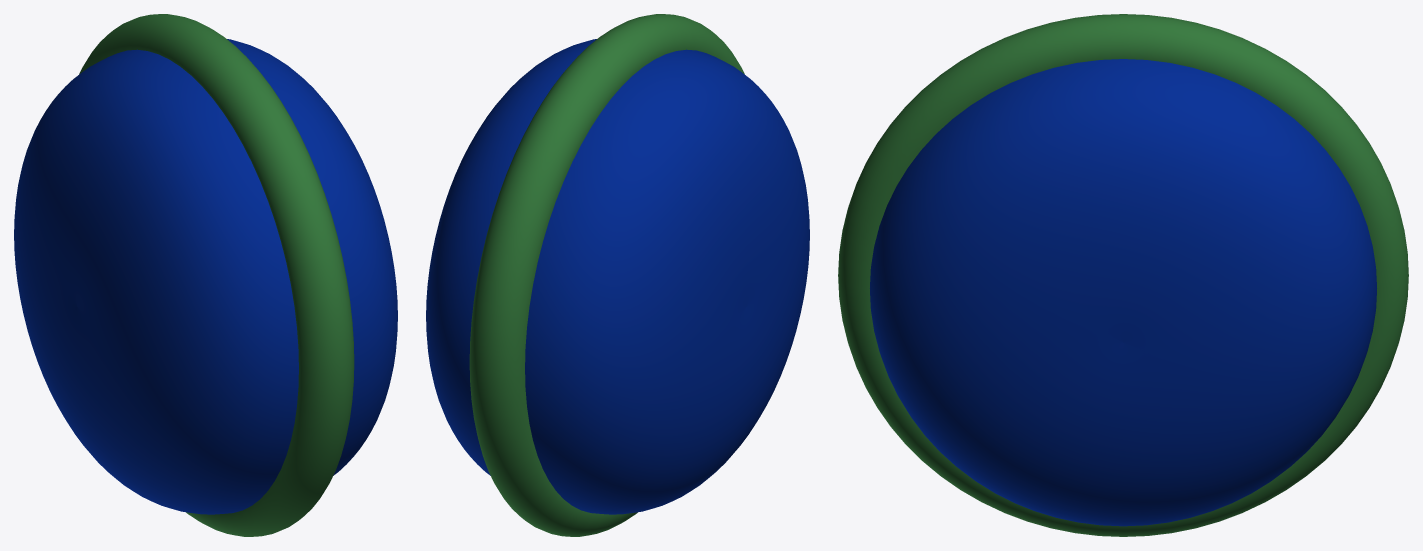
File: coin_1.fbx
3 views of the same model, side by side, from view 1: azimuth 30°, elevation 25°; view 2: azimuth 150°, elevation 25°; view 3: azimuth 270°, elevation 25° (orthographic). The views are drawn at different scales.
Visible parts, largest first — view 1: 3DGeom~4, 3DGeom~5; view 2: 3DGeom~4, 3DGeom~5; view 3: 3DGeom~4, 3DGeom~5.
Part boxes in pixels (x1,y1,x2,y2): 3DGeom~4: [14, 39, 397, 514]; 3DGeom~5: [79, 14, 354, 536]; 3DGeom~4: [426, 39, 809, 514]; 3DGeom~5: [469, 14, 744, 536]; 3DGeom~4: [870, 59, 1376, 526]; 3DGeom~5: [838, 14, 1408, 536].
Size of the model in its own units: 0.0501 by 0.09 by 0.09.
